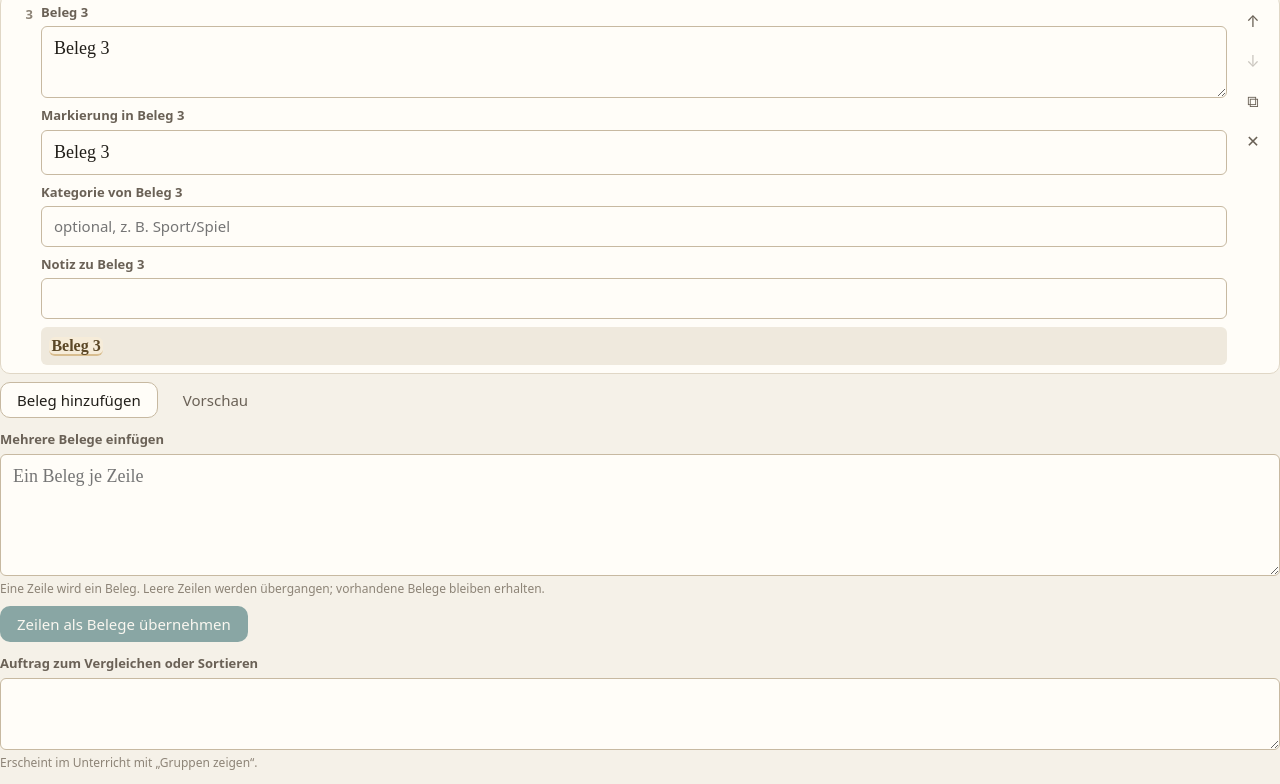
Test case: Korpusminiatur vorbereiten › öffnet eine Vorschau der gestuften Präsentation
(page scrolled)
Click the button "Vorschau". click: (215, 400)
box: [166,382,265,418]
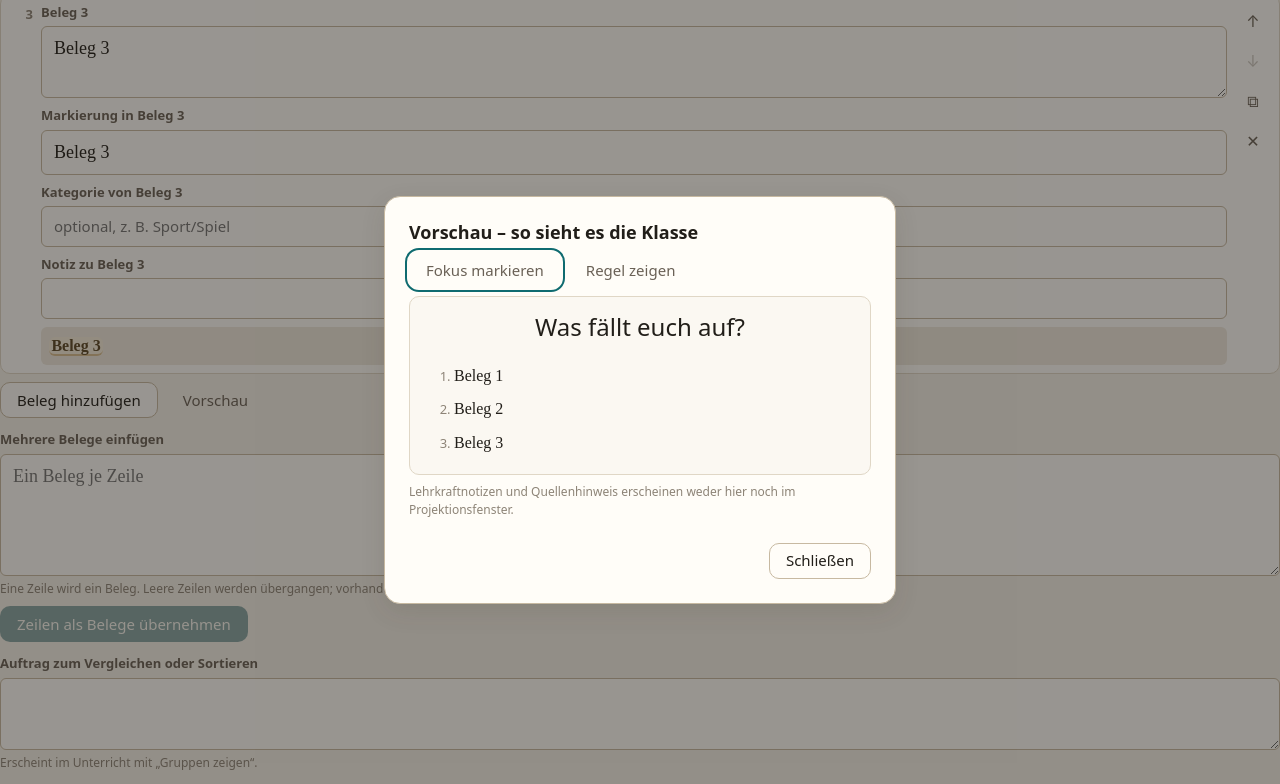
Expected: the dialog does not show "Das Muster.", [384,196,896,604]
Now the dialog shows "Was fällt euch auf?", box [535,310,745,343]
Click the button "Regel zeigen". click: (631, 270)
box: [569,252,692,288]
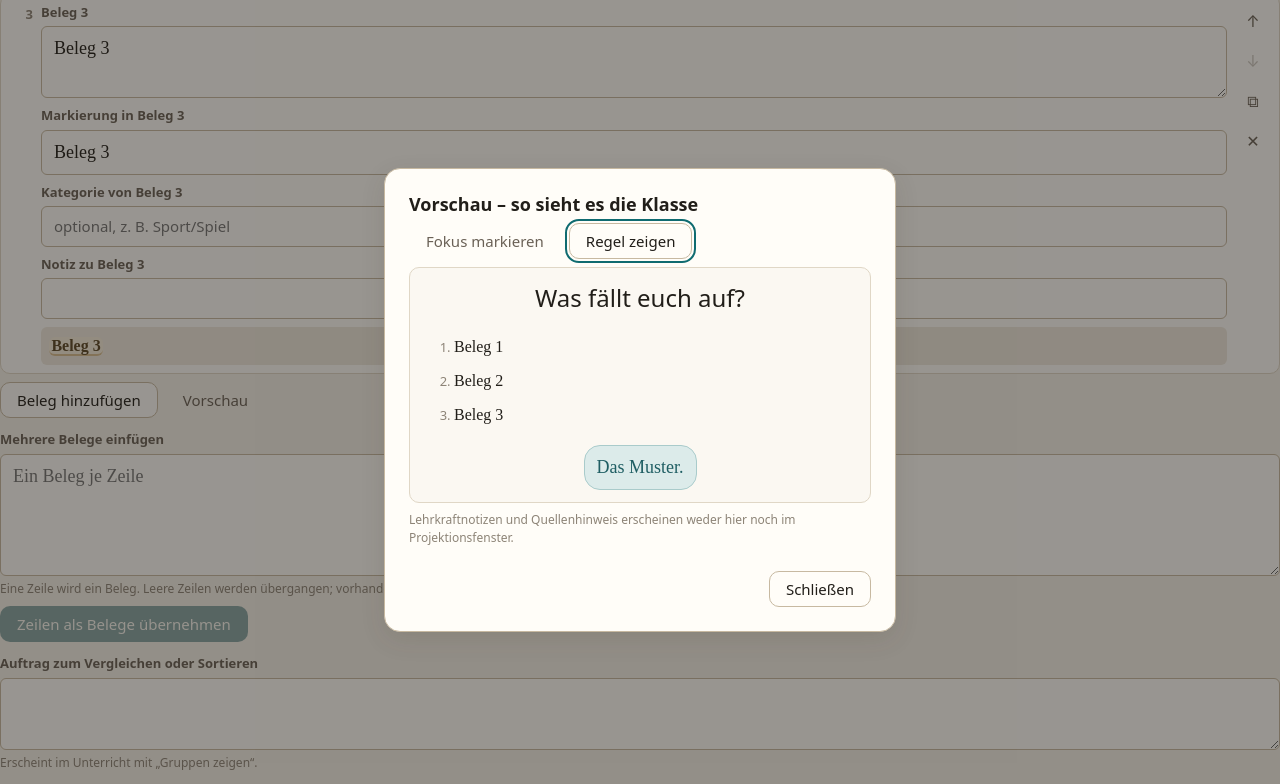
Now the dialog shows "Das Muster.", box [596,457,684,477]
